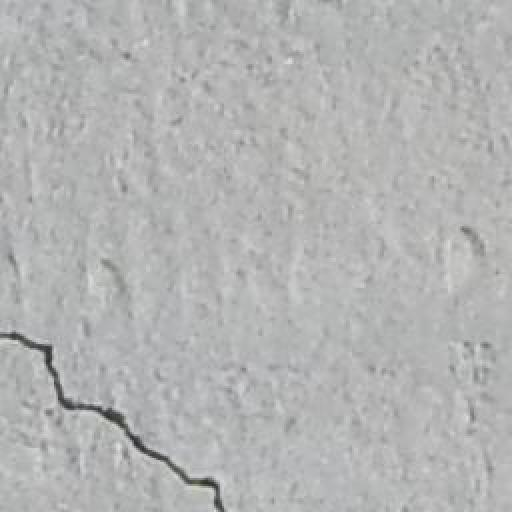spalling: (2, 318, 247, 508)
